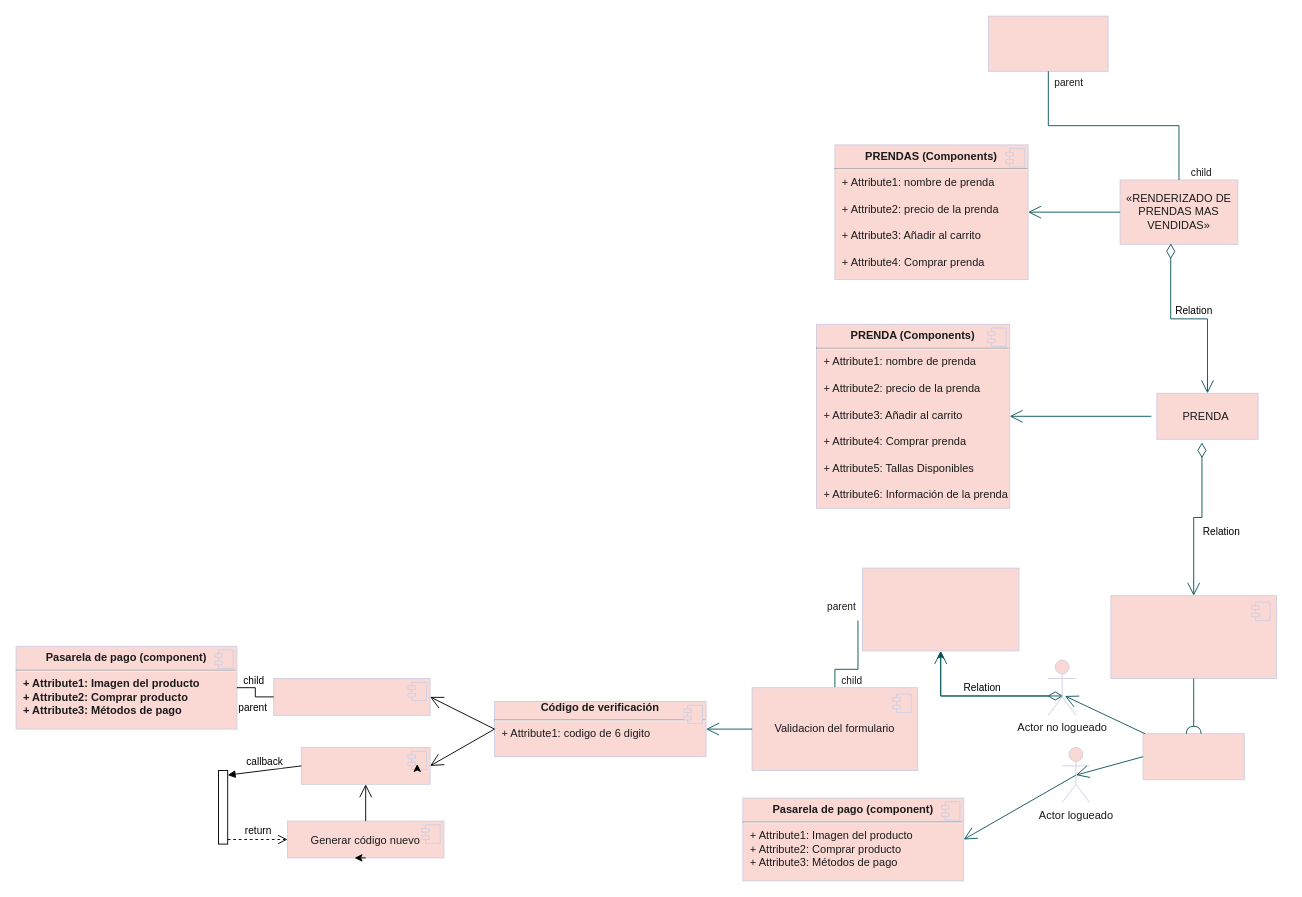
Some shapes in this 1302 by 897 pixel diagram are drawn without their labels. Each missing label, with the centre of its shape:
COMPRAR PRENDA: (1193,636)
Código correcto: (351,696)
Código incorrecto: (365,765)
LOGIN: (1193,756)
Object: formulario ingreso input = usuario input = correo input = contraseña: (940,609)
PRENDAS PRINCIPALES: (1048,43)
